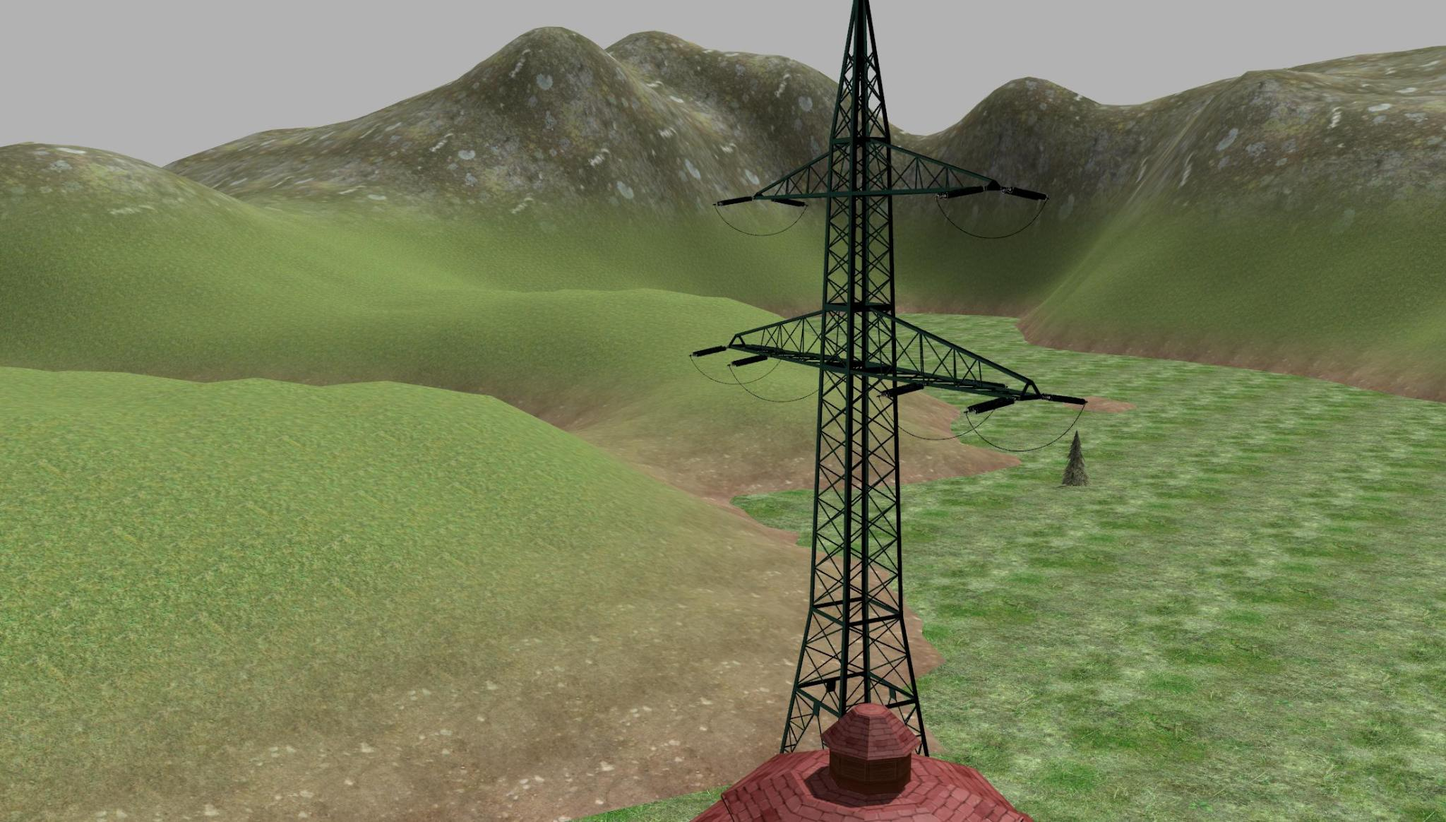tower: (718, 2, 1022, 709)
